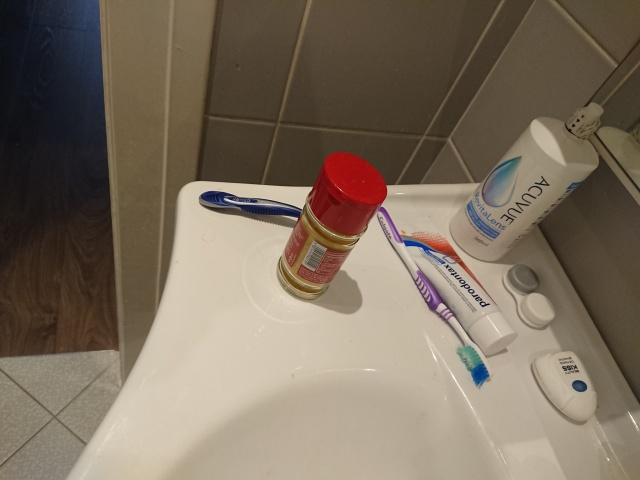Kotanyi Curry Spices Mix 70g: (274, 149, 389, 303)
